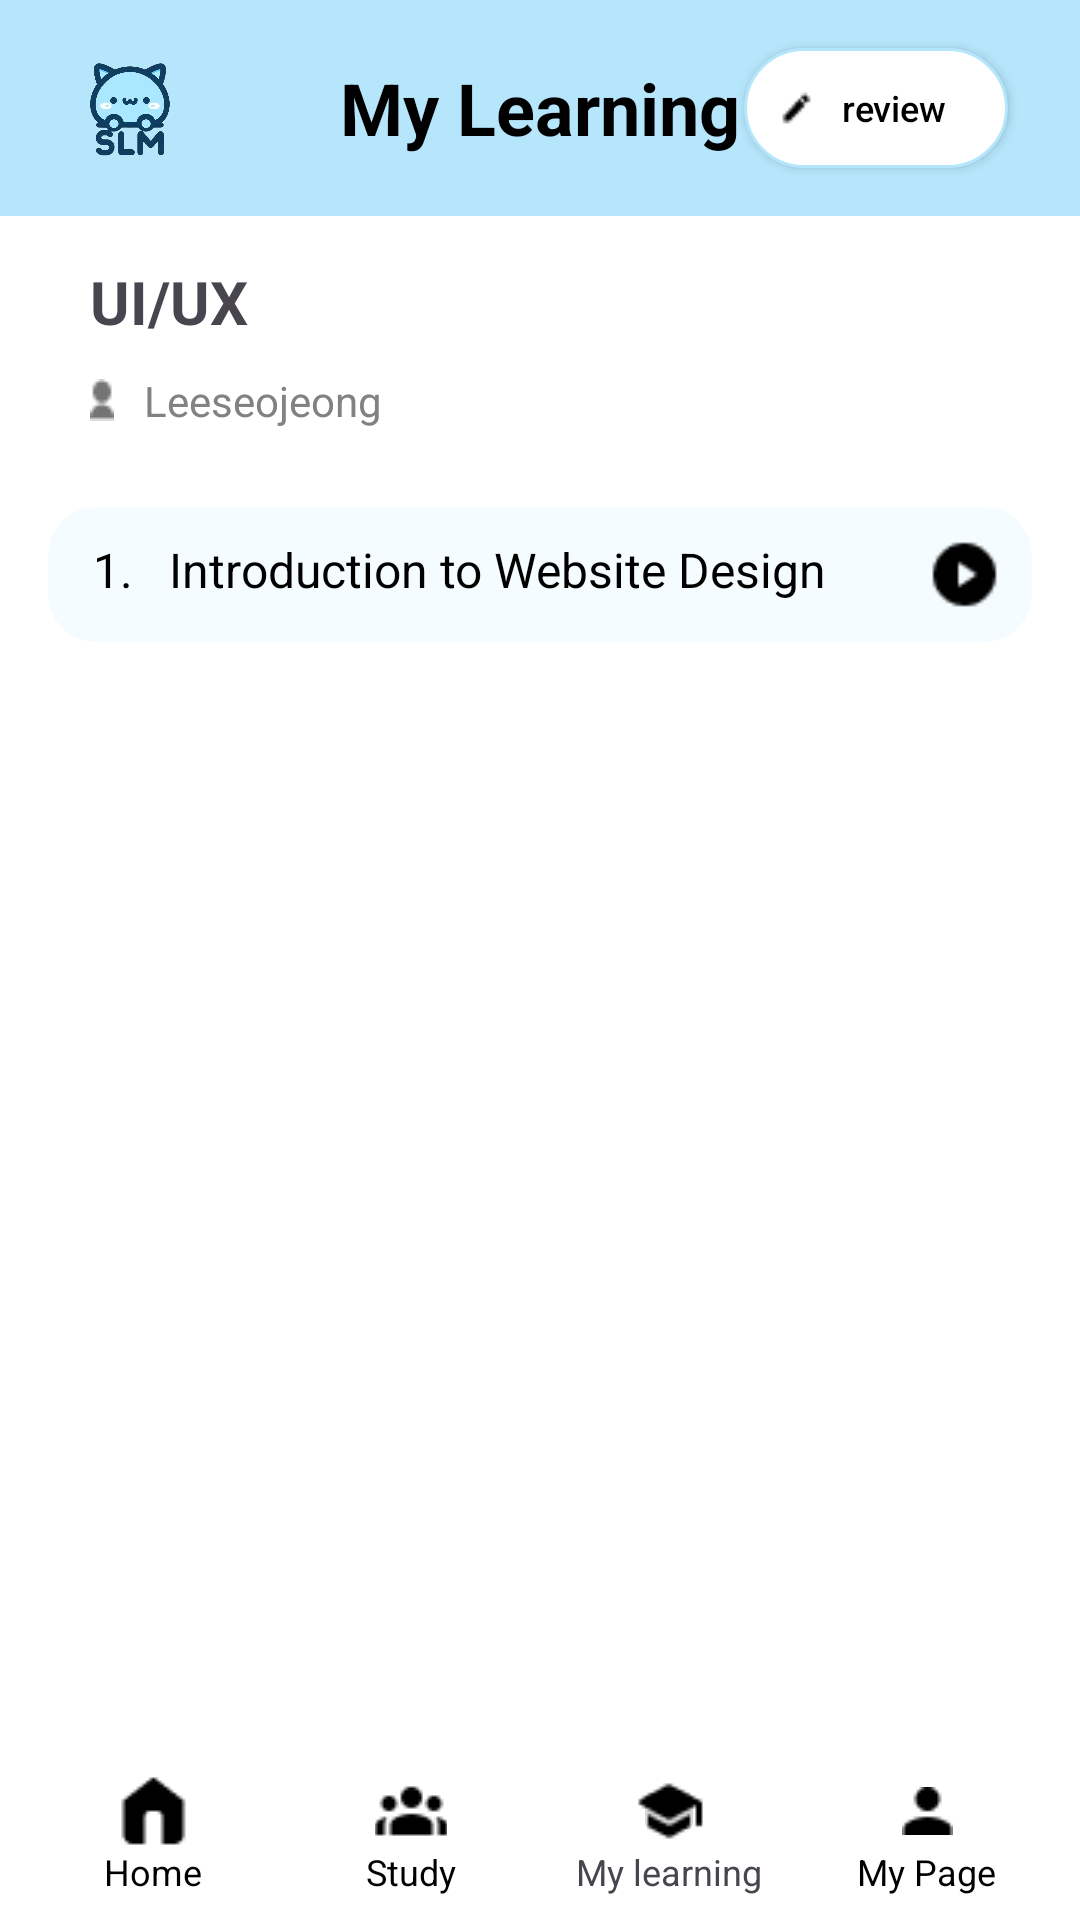

Named icons in this screenshot (1080x1920) and their bounding boxes, bbox(x1, y1, x2, y2):
play: bbox(932, 542, 997, 607)
